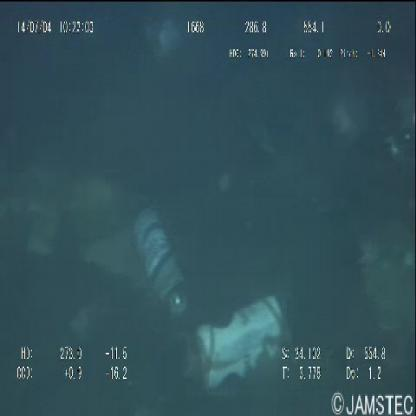Rác: (194, 292, 286, 392)
